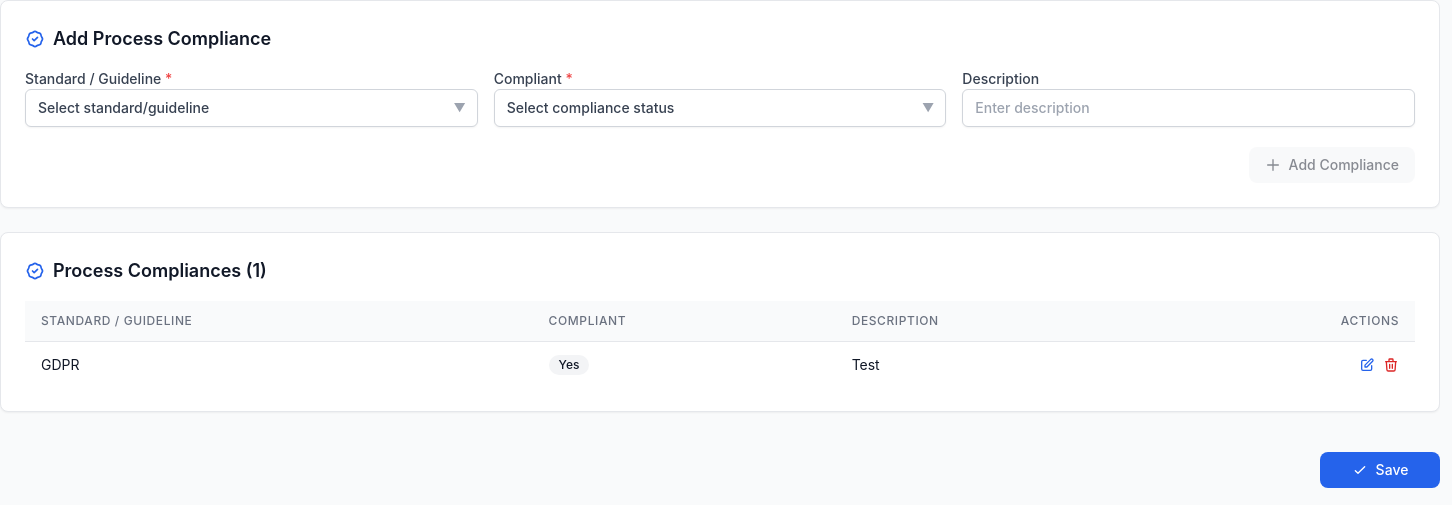
Test case: ProcessComplianceStep › exits edit mode when cancel button clicked
What coordinates should you click on to do the following:
click the button titled "Edit"
I would click on:
 (1367, 364)
Its box is [1359,356,1375,372].
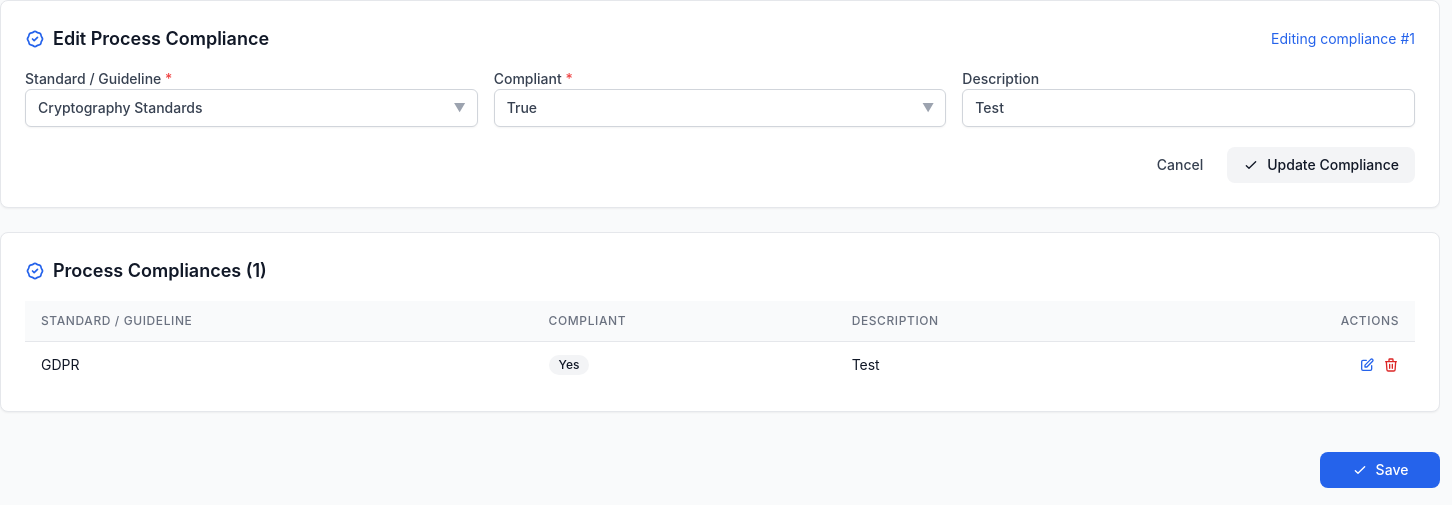
What coordinates should you click on to do the following:
click the button "Cancel"
I would click on:
 (1180, 165)
Its box is [1141,147,1219,183].
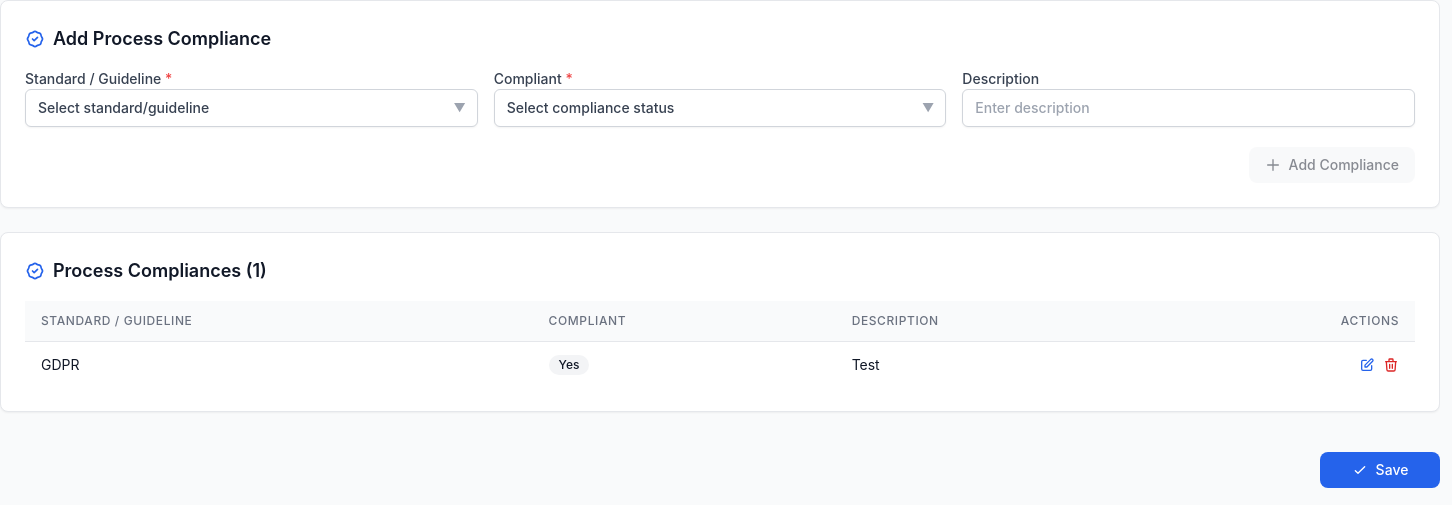
Now the button "Update Compliance" is gone
